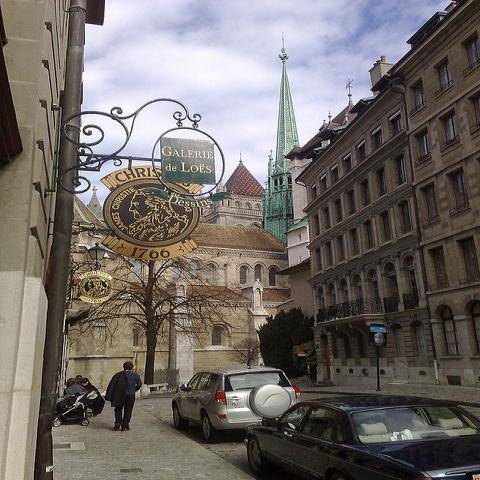car: (245, 393, 479, 479), (172, 364, 300, 444)
